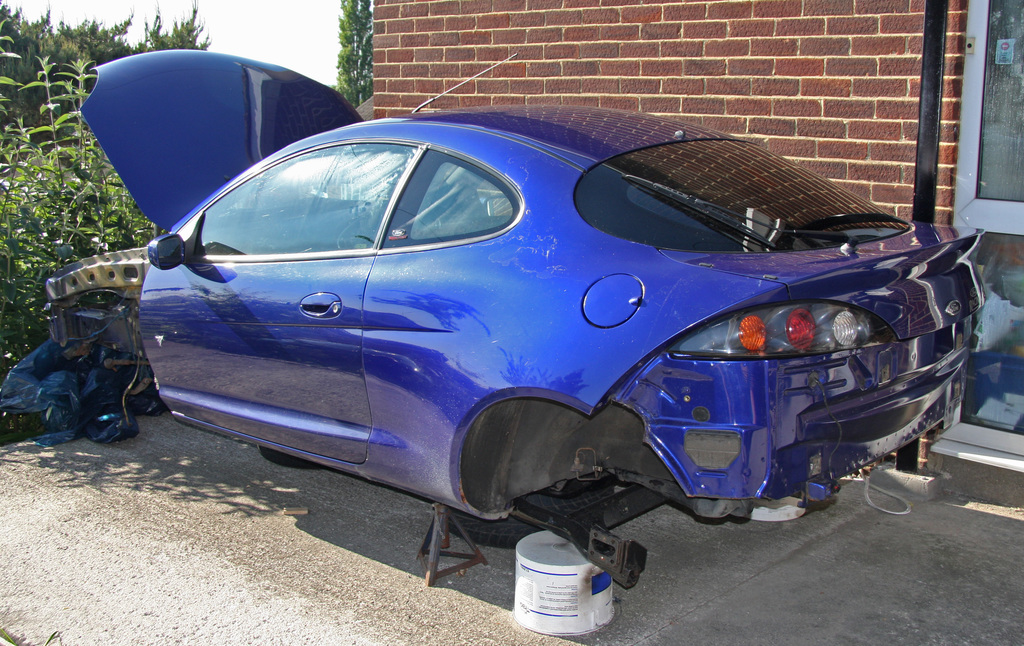Car: (34, 54, 994, 592)
